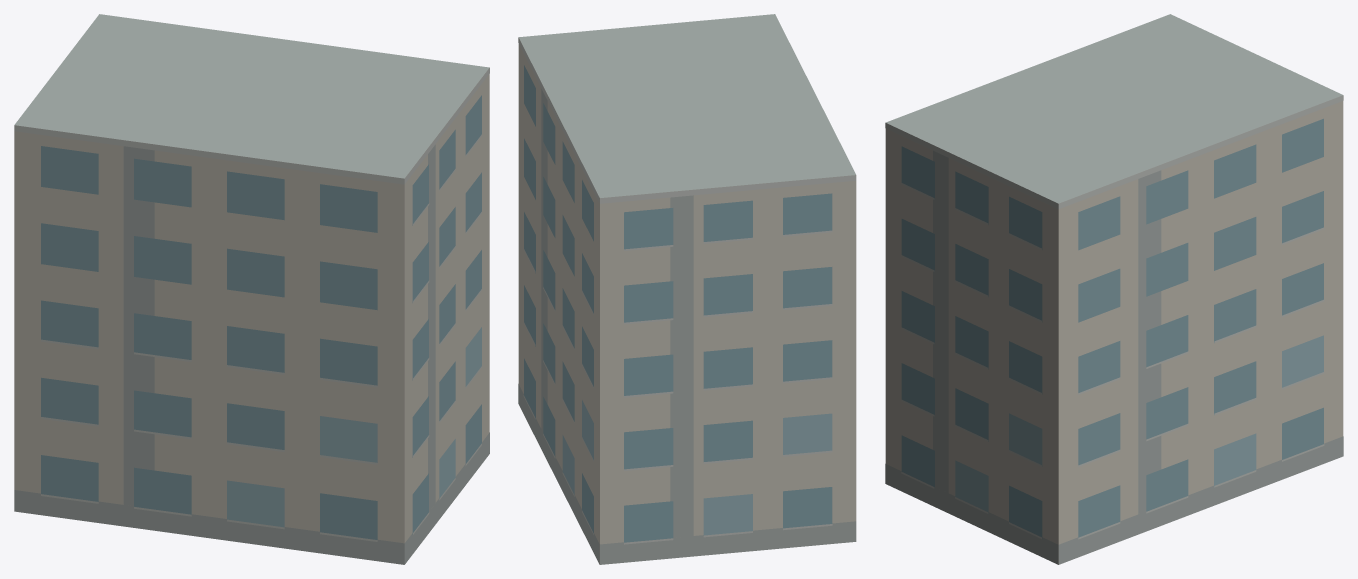
File: survey-upis-32840764.glb
3 views of the same model, side by side, from view 1: azimuth 30°, elevation 25°; view 2: azimuth 150°, elevation 25°; view 3: azimuth 270°, elevation 25° (orthographic). The views are drawn at different scales.
Visible parts, largest first — view 1: survey-upis-32840764.tmp; view 2: survey-upis-32840764.tmp; view 3: survey-upis-32840764.tmp.
Part boxes in pixels (x1,y1,x2,y2): survey-upis-32840764.tmp: [14, 14, 489, 564]; survey-upis-32840764.tmp: [518, 14, 856, 564]; survey-upis-32840764.tmp: [885, 14, 1343, 564].
Bounding box in the file's own units: 17.58 × 15.6 × 17.94.
